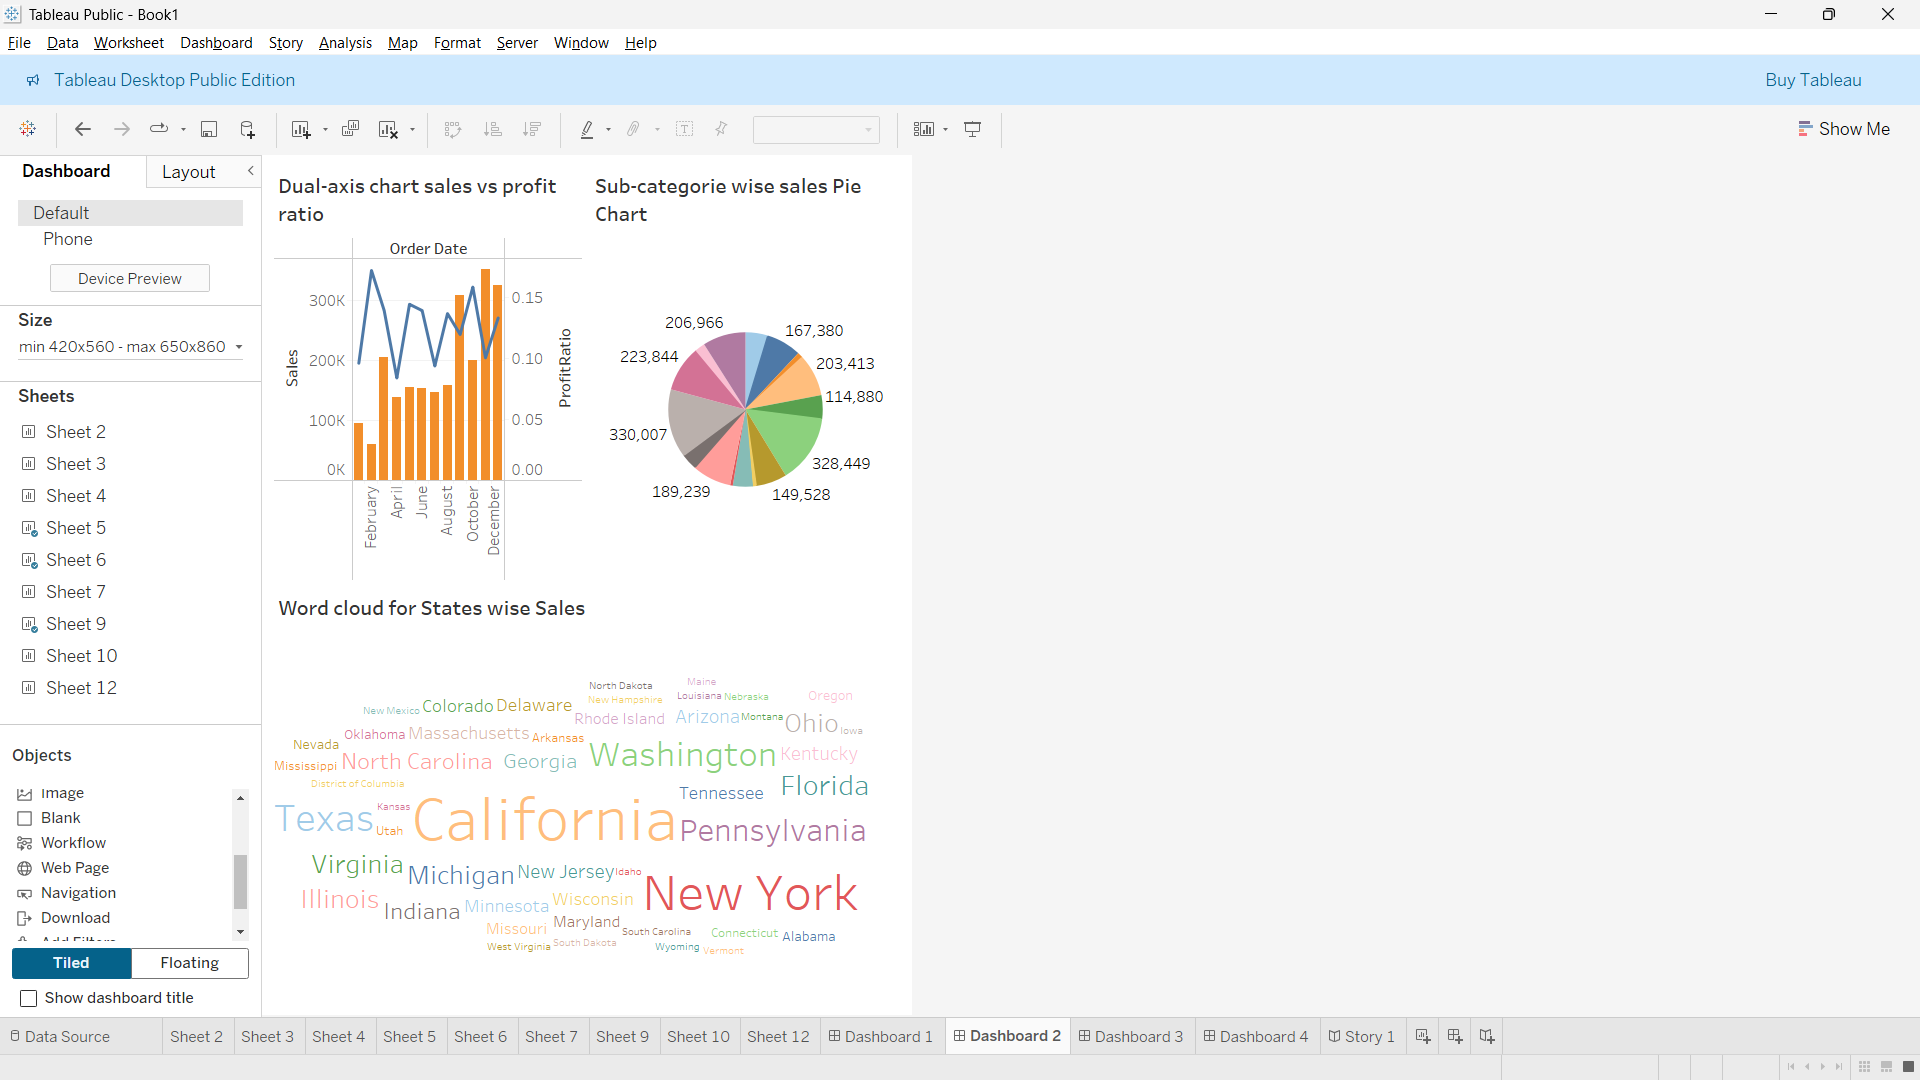

What the dashboard file says about the page in this screenshot:
{"tool":"tableau","page":{"name":"Dashboard 2","canvas":[650,860],"ordinal":1},"visuals":[{"type":"worksheet","title":"Sheet 9","mark":"Automatic","rows":["Sales","Calculation_1770477628958941184"],"cols":["Order Date"],"box":[8,8,317,422]},{"type":"worksheet","title":"Sheet 5","mark":"Pie","box":[325,8,317,422]},{"type":"worksheet","title":"Sheet 6","mark":"Text","box":[8,430,634,422]}]}

Visuals, with their boxes on the page's 650x860 design canvas (x1, y1, x2, y2). These are canvas units, not pixel positions in the 1920x1080 screenshot, which may show the page scaled, cropped or inside an application window:
"Sheet 9" worksheet: <box>8,8,325,430</box>
"Sheet 5" worksheet (Pie marks): <box>325,8,642,430</box>
"Sheet 6" worksheet (Text marks): <box>8,430,642,852</box>
